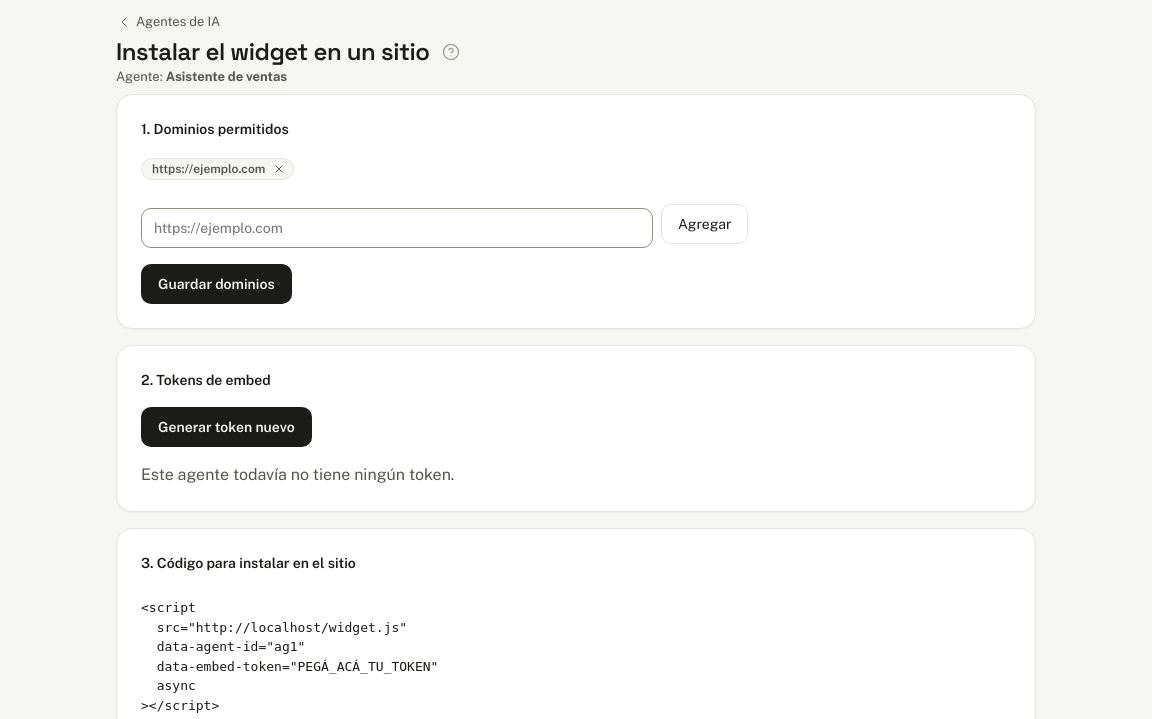
AgentEmbedPage — dominios permitidos › agregar un dominio y guardar manda la lista ENTERA, no un diff
Check: the text "https://ejemplo.com" is shown, box x1=141 y1=158 x2=294 y2=180
Type "https://otro.com" into the field named "Dominio nuevo" at (397, 228), box x1=141 y1=208 x2=653 y2=248
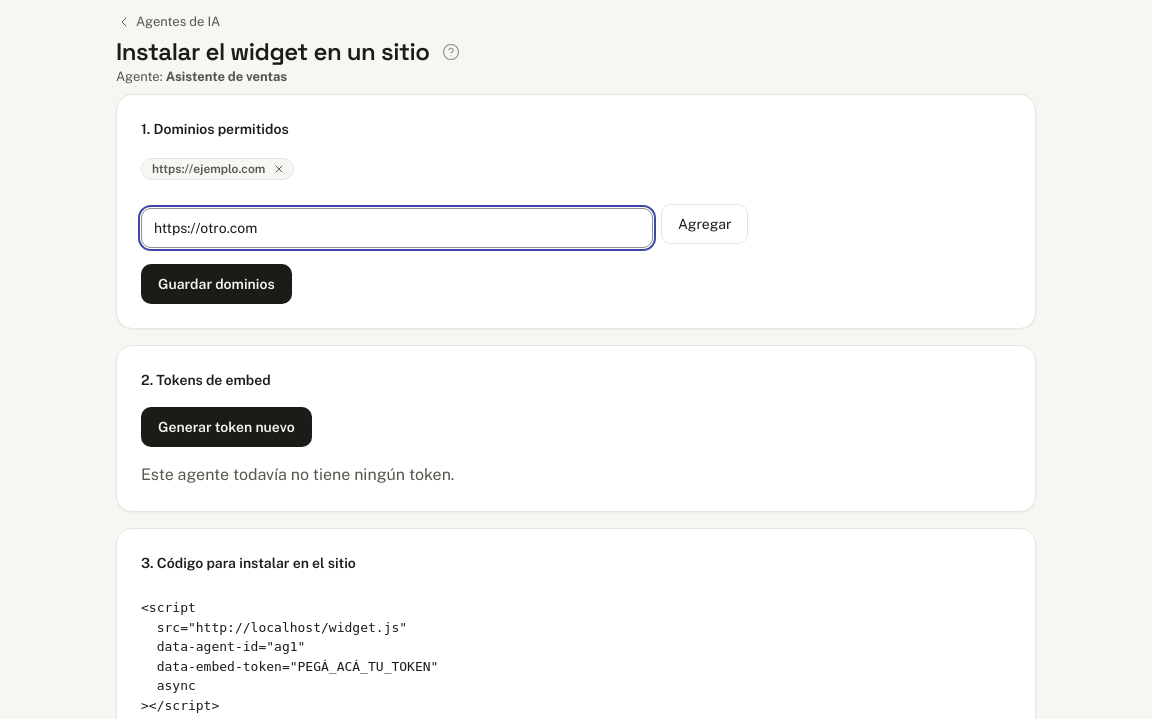
Click the button "Agregar" at (705, 224), box x1=661 y1=204 x2=748 y2=244
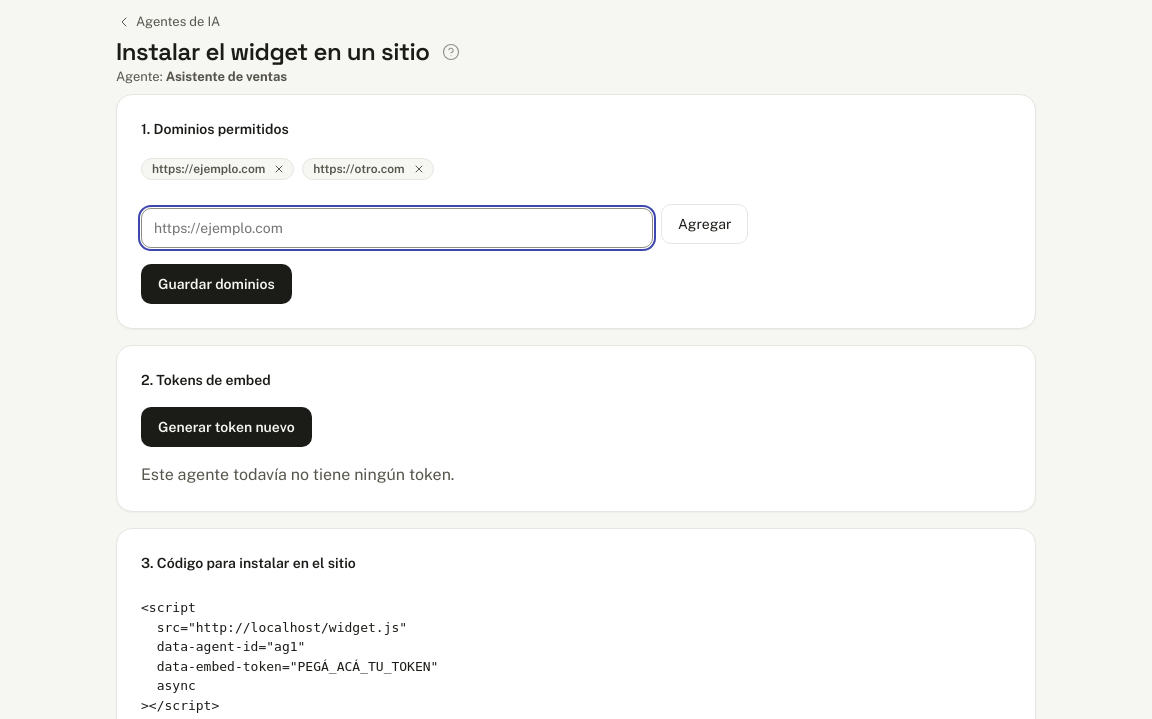
Click the button "Guardar dominios" at (216, 284), box x1=141 y1=264 x2=292 y2=304
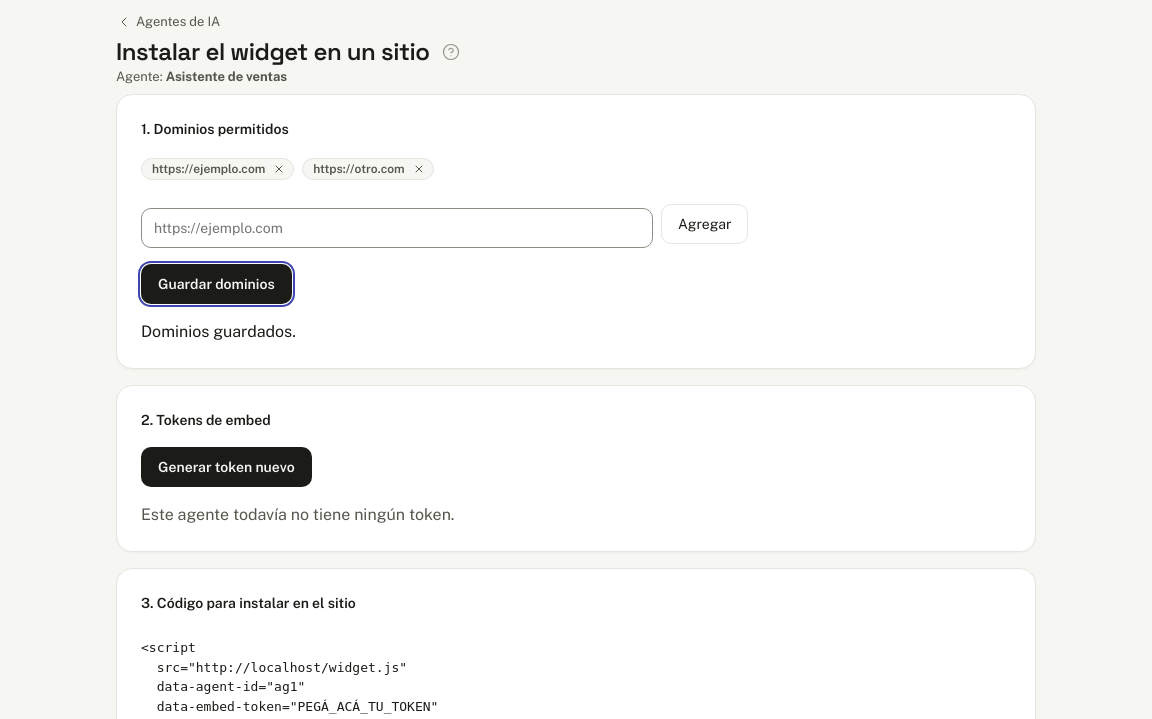
Check: the text "Dominios guardados." is shown, box x1=141 y1=322 x2=296 y2=341
